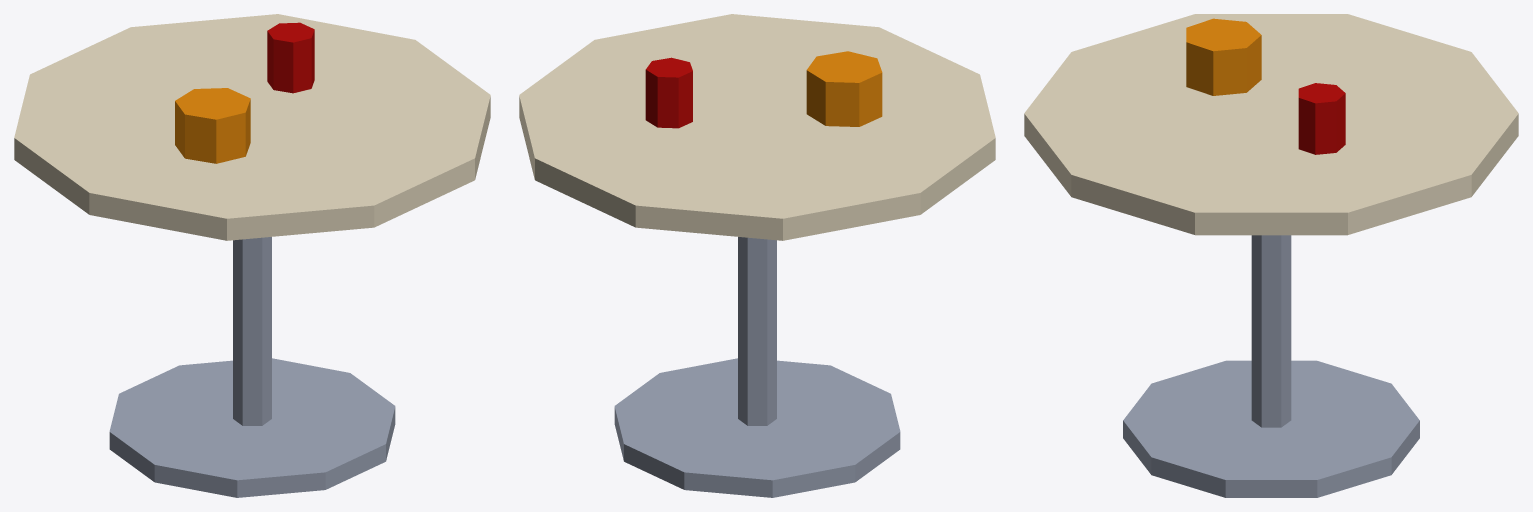
Rendered from lounge_table.obj.
3 renders of one model, left to right at view 1: azimuth 30°, elevation 25°; view 2: azimuth 150°, elevation 25°; view 3: azimuth 270°, elevation 25°, orthographic.
Parts seen in each view (by area): view 1: lounge_table; view 2: lounge_table; view 3: lounge_table.
Part boxes in pixels (left/top/right/bottom): lounge_table: left=14, top=14, right=490, bottom=497; lounge_table: left=519, top=14, right=995, bottom=497; lounge_table: left=1024, top=14, right=1518, bottom=497.
Size of the model in its own units: 0.9511 by 0.84 by 1.
